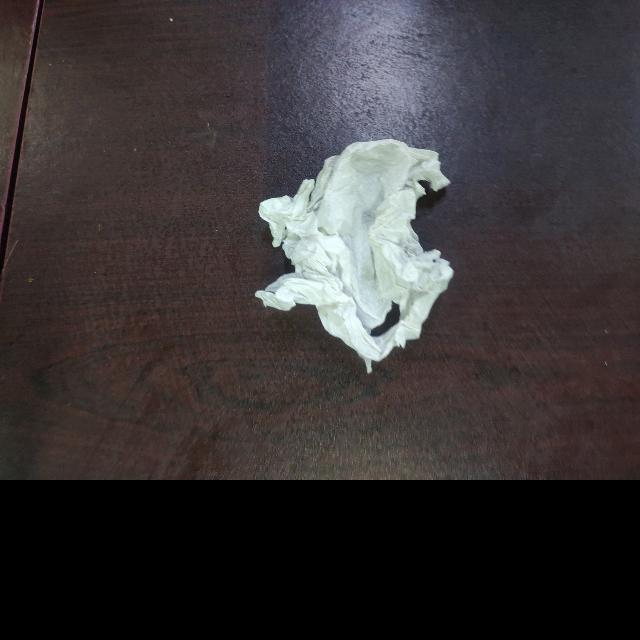kitchen paper: (250, 135, 456, 379)
